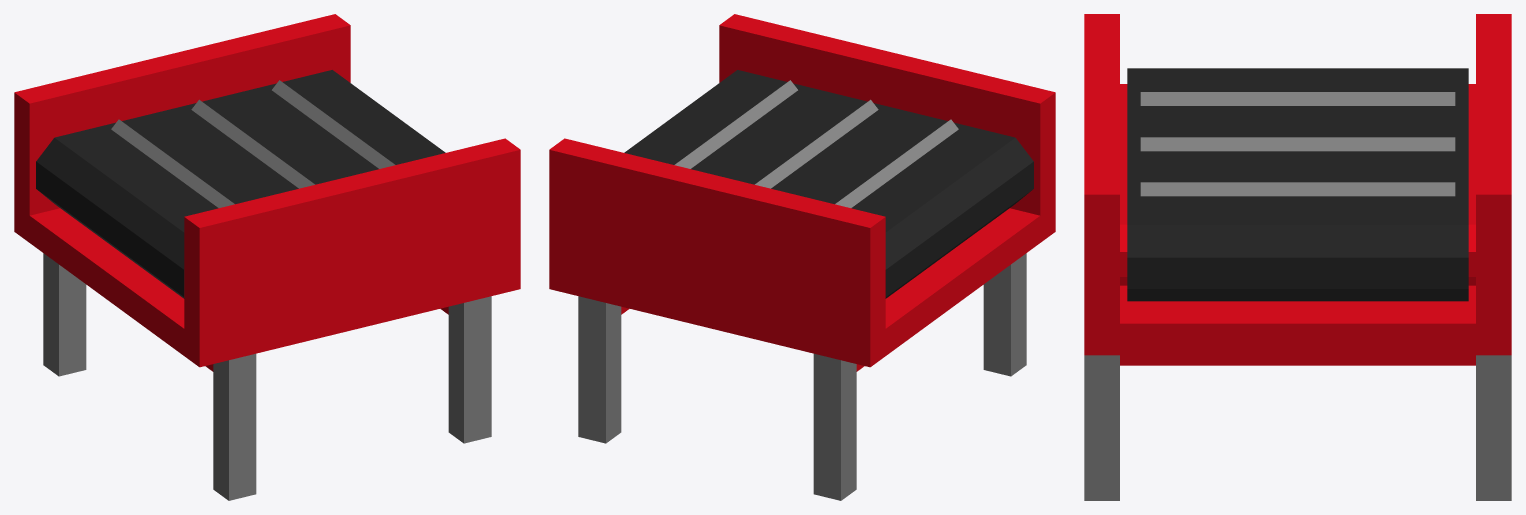
Rendered from TapisRDroit.fbx.
3 renders of one model, left to right at view 1: azimuth 30°, elevation 25°; view 2: azimuth 150°, elevation 25°; view 3: azimuth 270°, elevation 25°, orthographic. The views are drawn at different scales.
Parts seen in each view (by area): view 1: Cube.006; view 2: Cube.006; view 3: Cube.006.
Boxes of the visible parts, box(x1,y1,x2,y2) form: Cube.006: box(14, 14, 520, 500); Cube.006: box(549, 14, 1055, 500); Cube.006: box(1084, 14, 1511, 500).
Bounding box in the file's own units: 200 × 167 × 200.
